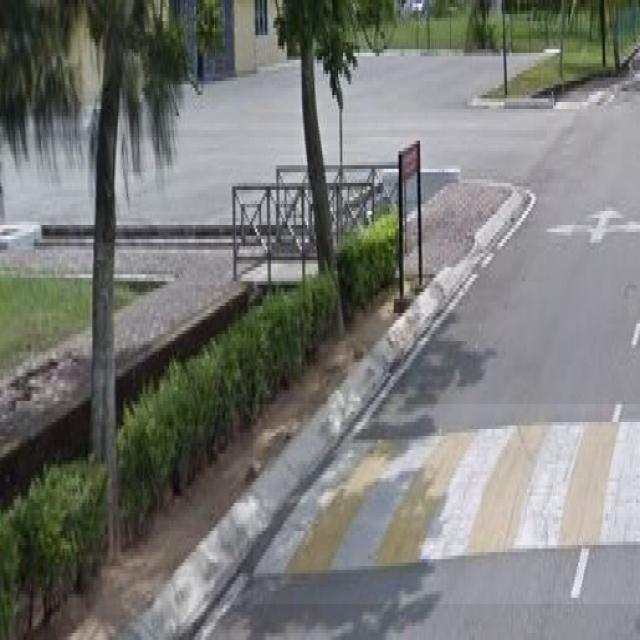speed-bump: (253, 404, 640, 604)
